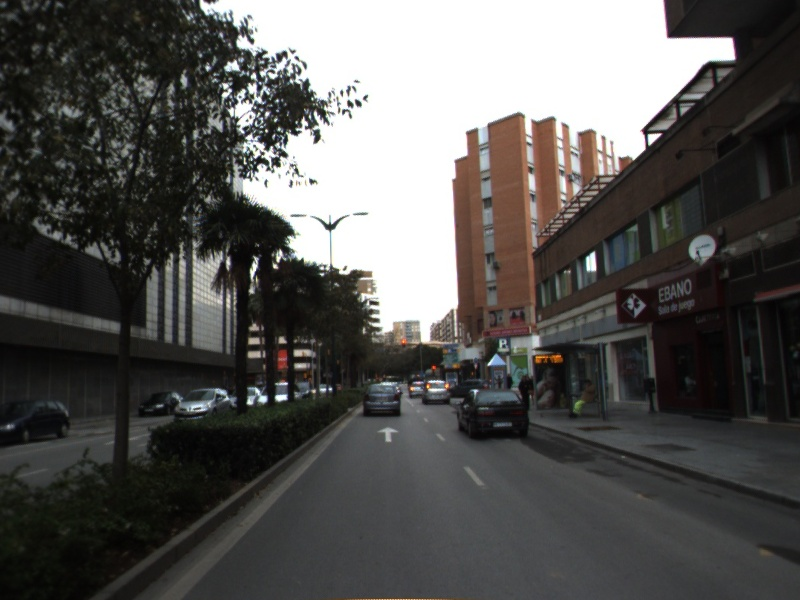STRAIGHT: (375, 425, 401, 444)
